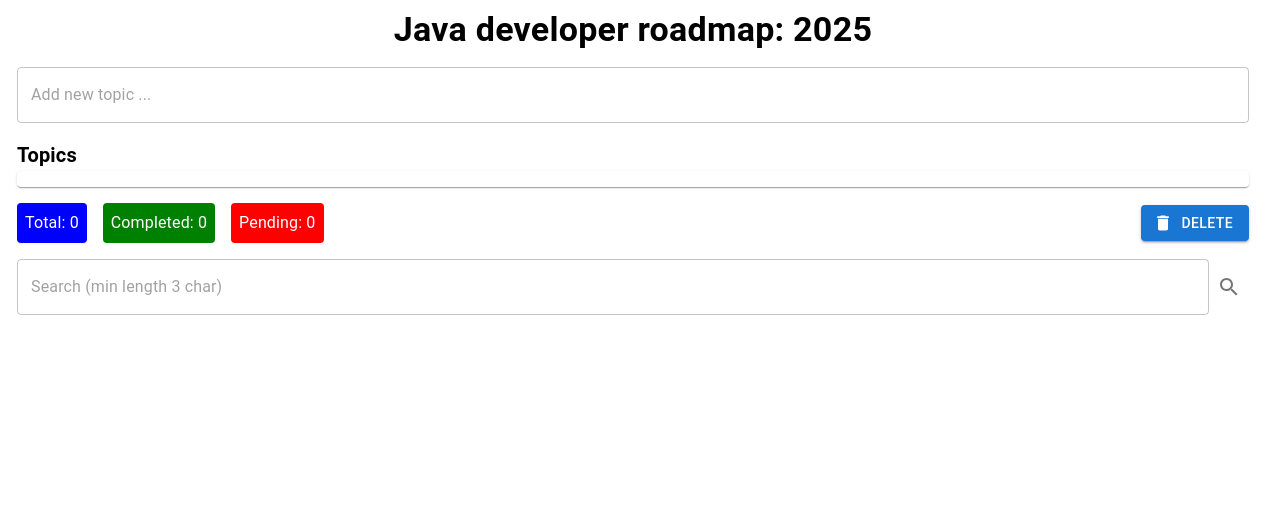
Scenario: TodoApp Component › after adding multiple items, they all appear in the list
The width and height of the screenshot is (1265, 506).
In the field with placeholder "Add new topic ...": point(633, 95) [17,67,1249,123], type "Task 1"
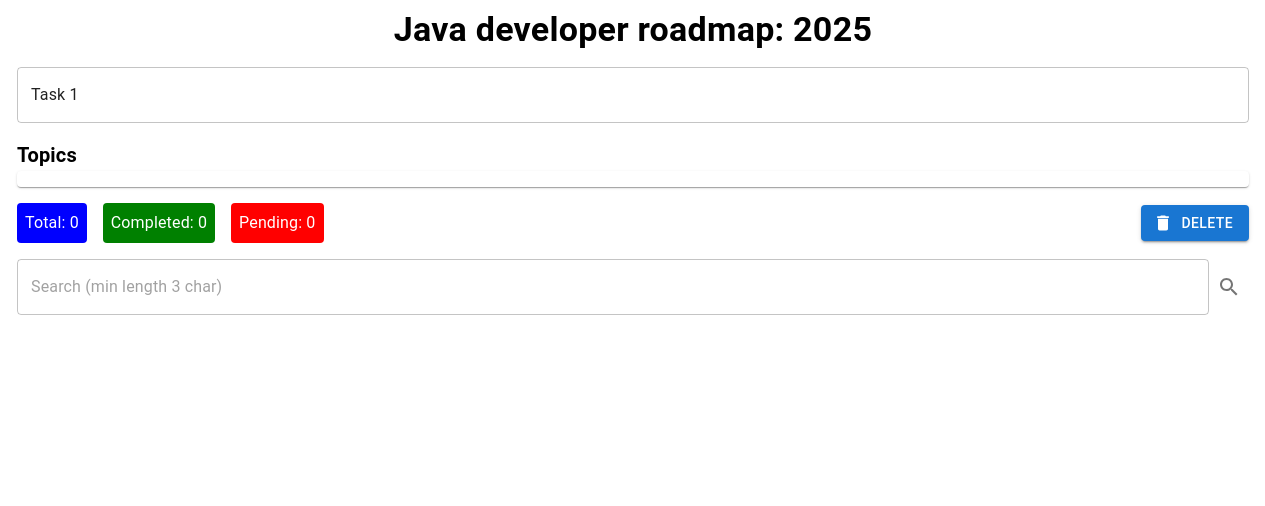
Press Enter in the field with placeholder "Add new topic ...", box [17,67,1249,123]
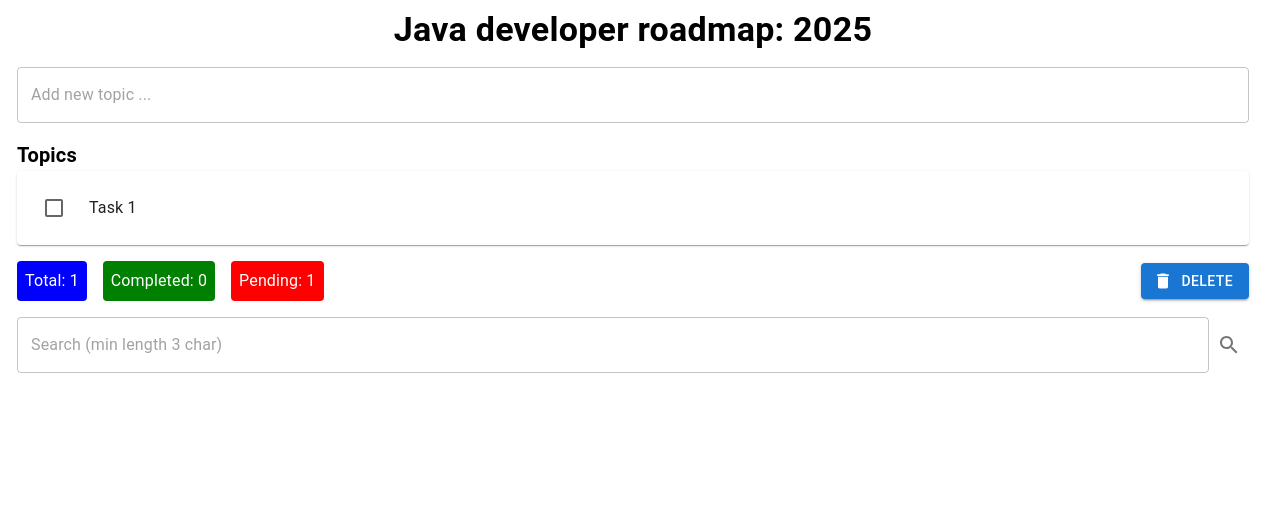
In the field with placeholder "Add new topic ...": point(633, 95) [17,67,1249,123], type "Task 2"
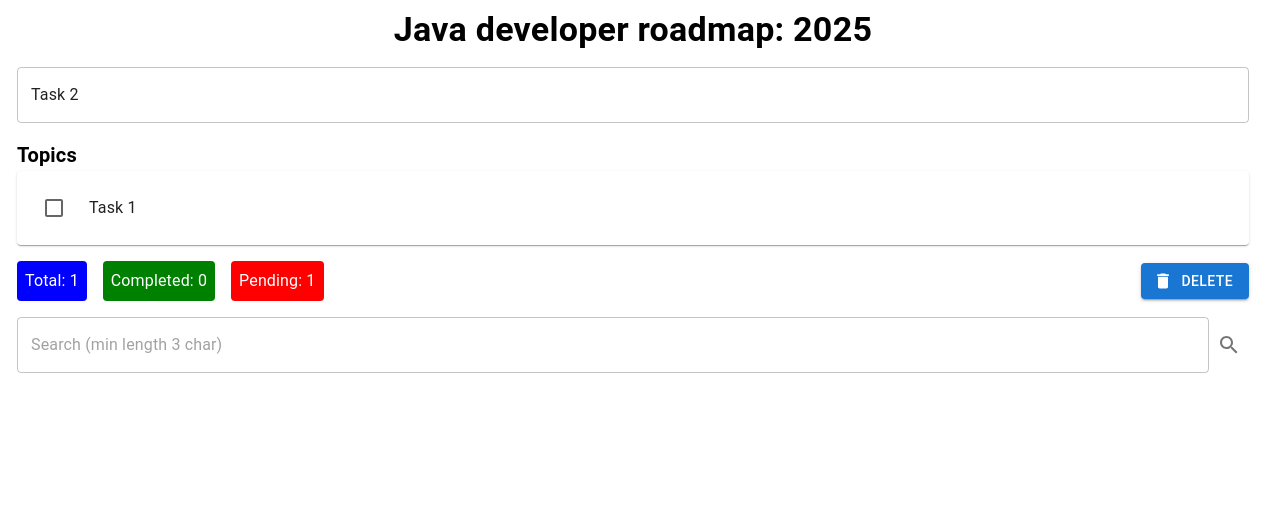
Press Enter in the field with placeholder "Add new topic ...", box [17,67,1249,123]
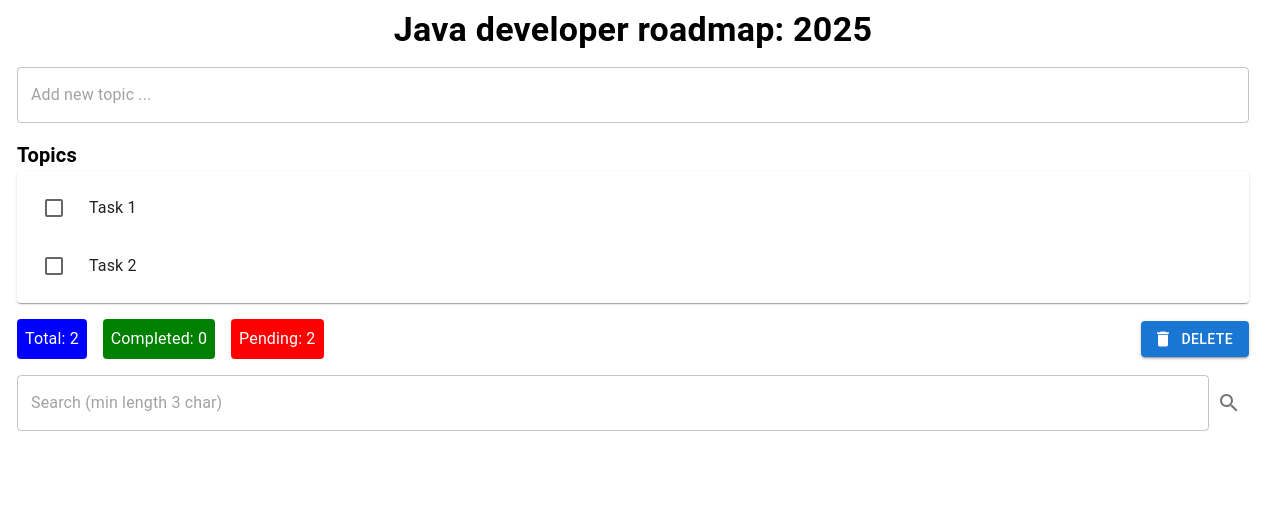
In the field with placeholder "Add new topic ...": point(633, 95) [17,67,1249,123], type "Task 3"
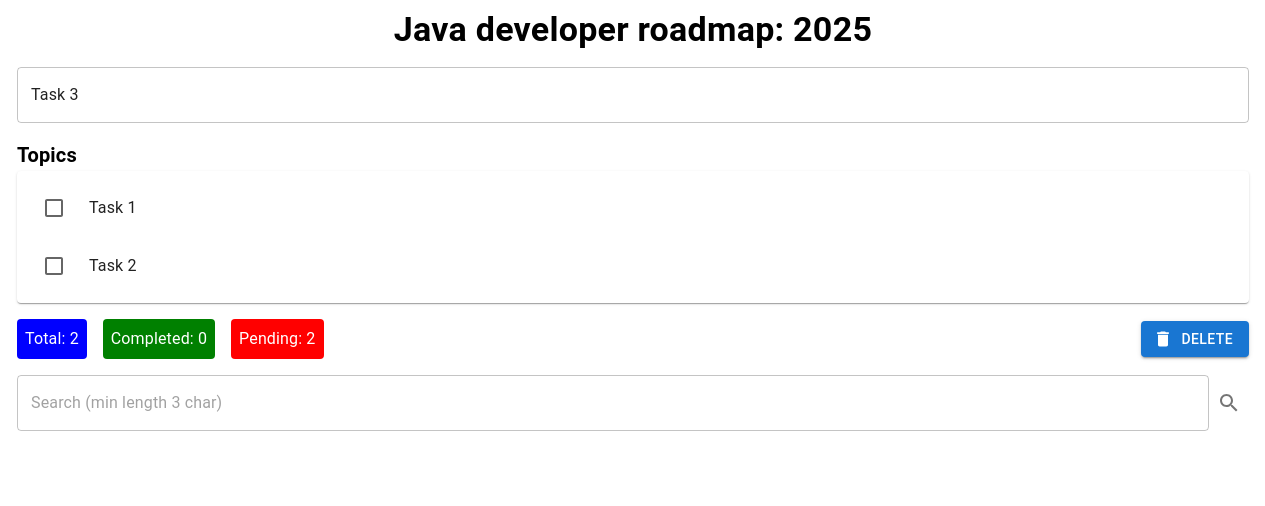
Press Enter in the field with placeholder "Add new topic ...", box [17,67,1249,123]
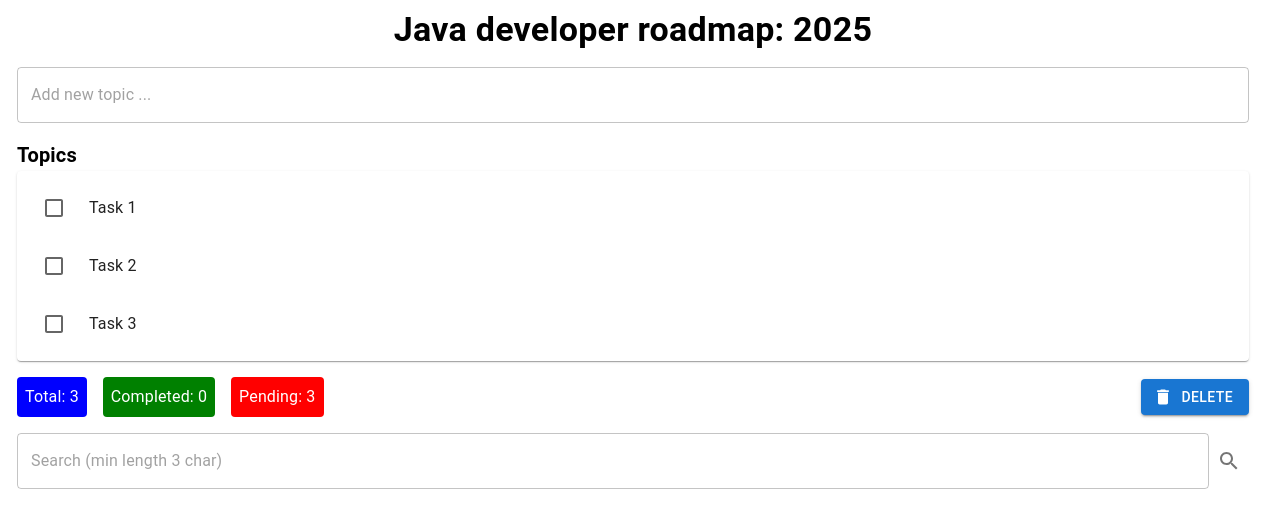
Expected: the text "Task 1" is shown, [89,198,137,217]
Expected: the text "Task 2" is shown, [89,256,137,275]
Expected: the text "Task 3" is shown, [89,314,137,333]
